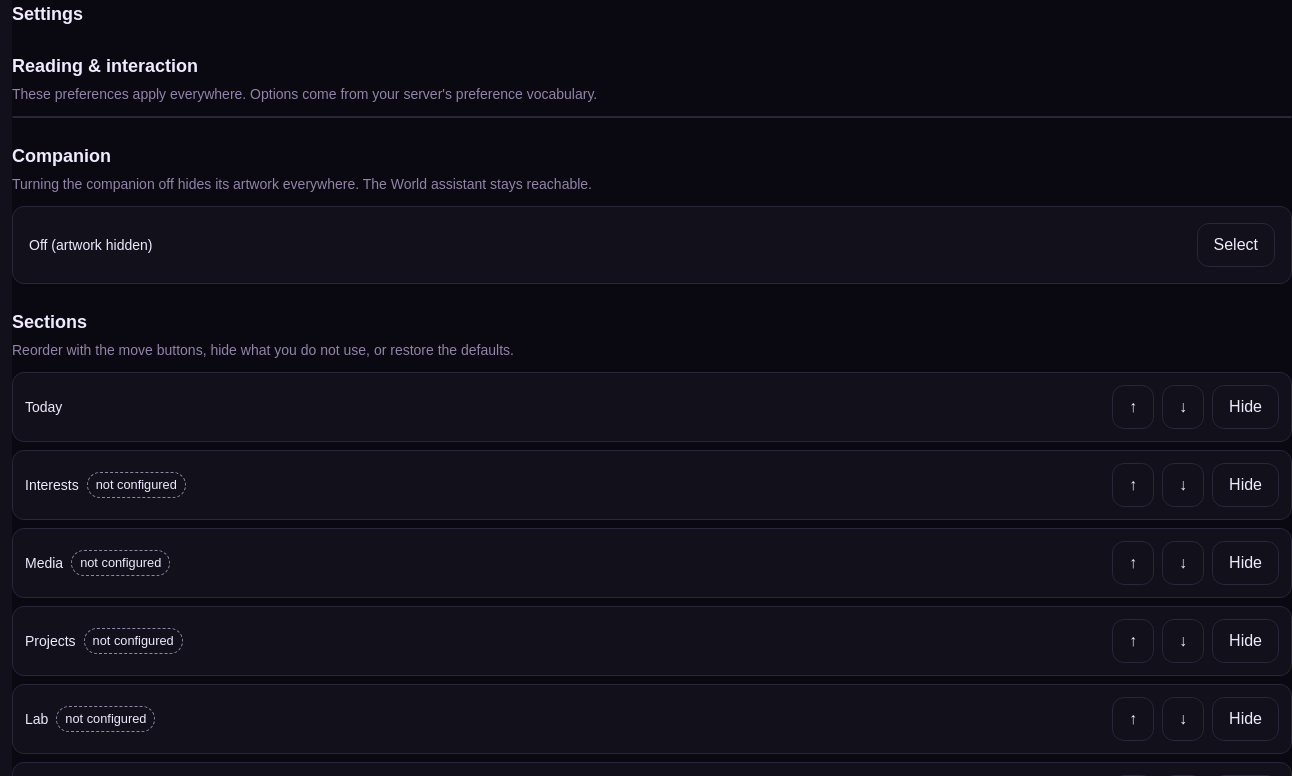
Settings: sections panel (GET/PUT /api/sections) › Hide on `today` sends the hidden list; hidden sections show a Show control
The image size is (1292, 776).
Click the button with test id "hide-today" at (1246, 407), box [1212,385,1279,429]
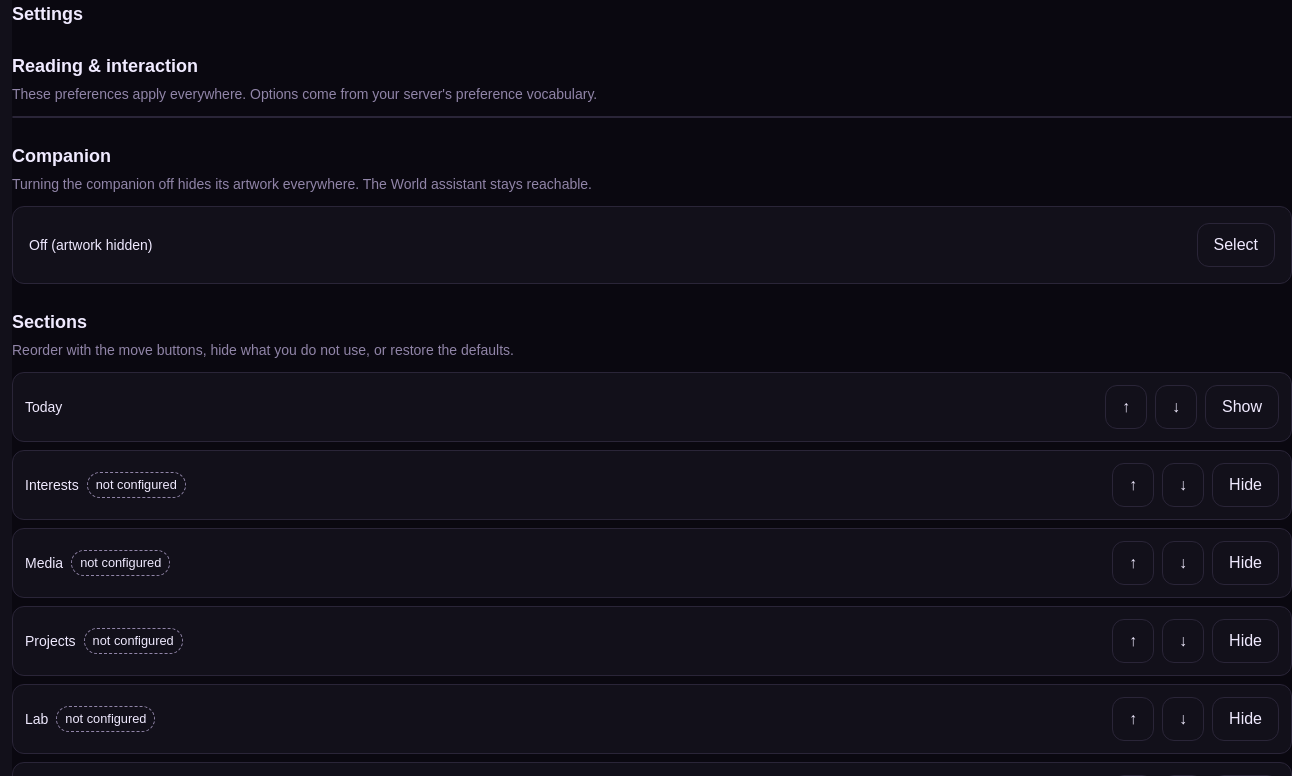
Check: the button with test id "show-today" is shown, box [1205,385,1279,429]
